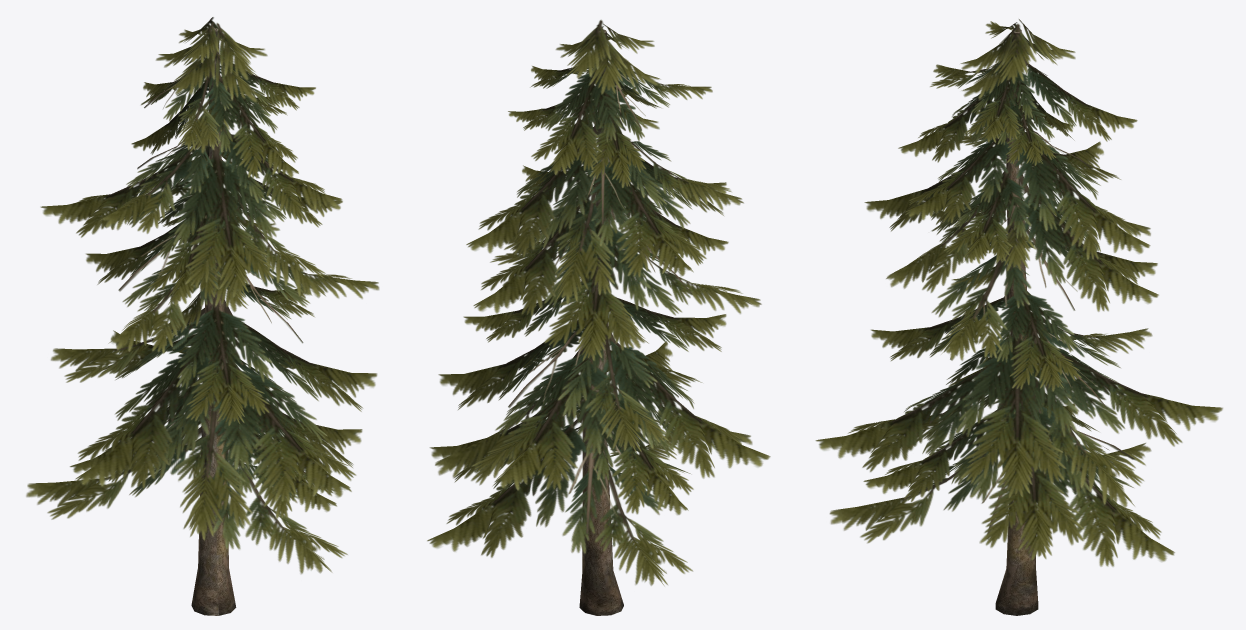
The model's file is fire-large-2.glb.
3 views of the same model, side by side, from view 1: azimuth 30°, elevation 25°; view 2: azimuth 150°, elevation 25°; view 3: azimuth 270°, elevation 25° (orthographic).
Parts seen in each view (by area): view 1: Branches, Tree_bark; view 2: Branches, Tree_bark; view 3: Branches, Tree_bark.
Part boxes in pixels (left/top/right/bottom): Branches: left=26, top=17, right=379, bottom=574; Tree_bark: left=191, top=28, right=236, bottom=615; Branches: left=427, top=20, right=770, bottom=585; Tree_bark: left=579, top=29, right=623, bottom=615; Branches: left=815, top=19, right=1222, bottom=566; Tree_bark: left=995, top=29, right=1038, bottom=615.
Size of the model in its own units: 365 by 624 by 405.
2 materials, 2 textured.
